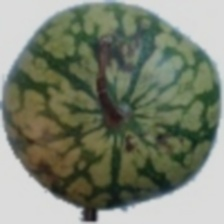watermelon: (48, 27, 217, 197)
